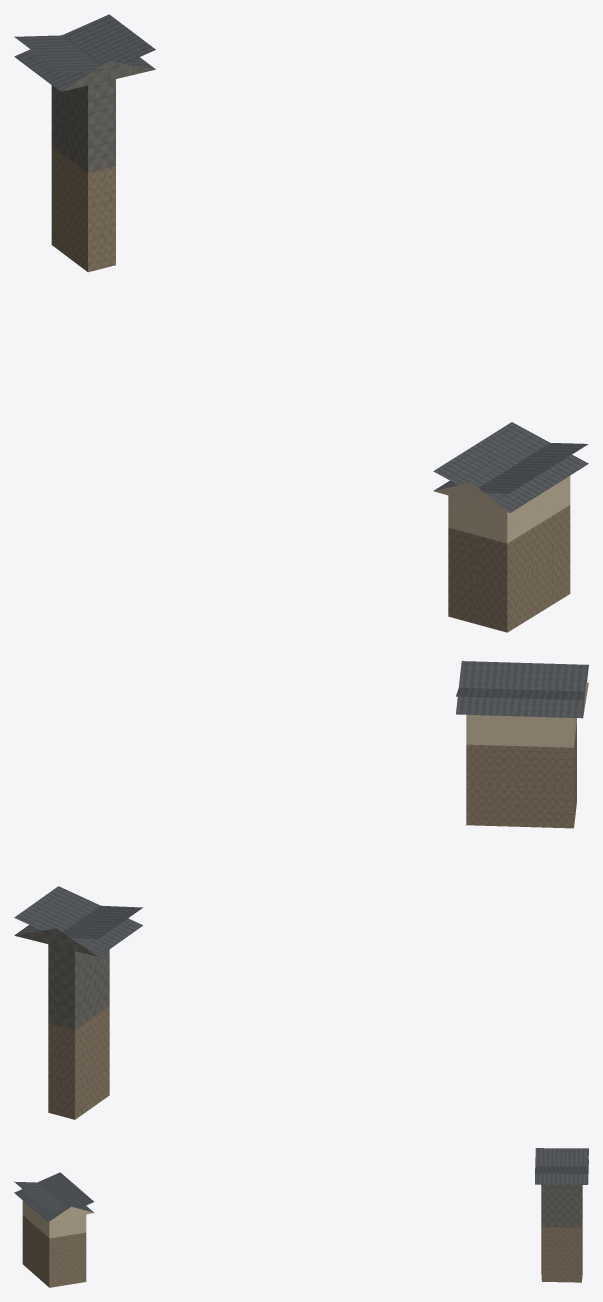
Rendered from bld_c-1_-3_550.gltf.
3 renders of one model, top to bottom at view 1: azimuth 30°, elevation 25°; view 2: azimuth 150°, elevation 25°; view 3: azimuth 270°, elevation 25°, orthographic. The views are drawn at different scales.
Parts seen in each view (by area): view 1: bld_c-1_-3_550; view 2: bld_c-1_-3_550; view 3: bld_c-1_-3_550.
Boxes of the visible parts, bbox=[...] form: bld_c-1_-3_550: bbox=[14, 14, 588, 632]; bld_c-1_-3_550: bbox=[14, 661, 588, 1119]; bld_c-1_-3_550: bbox=[14, 1148, 588, 1287].
Bounding box in the file's own units: 8.06 × 11 × 47.51.
Materials: 6 (6 with a texture image).
